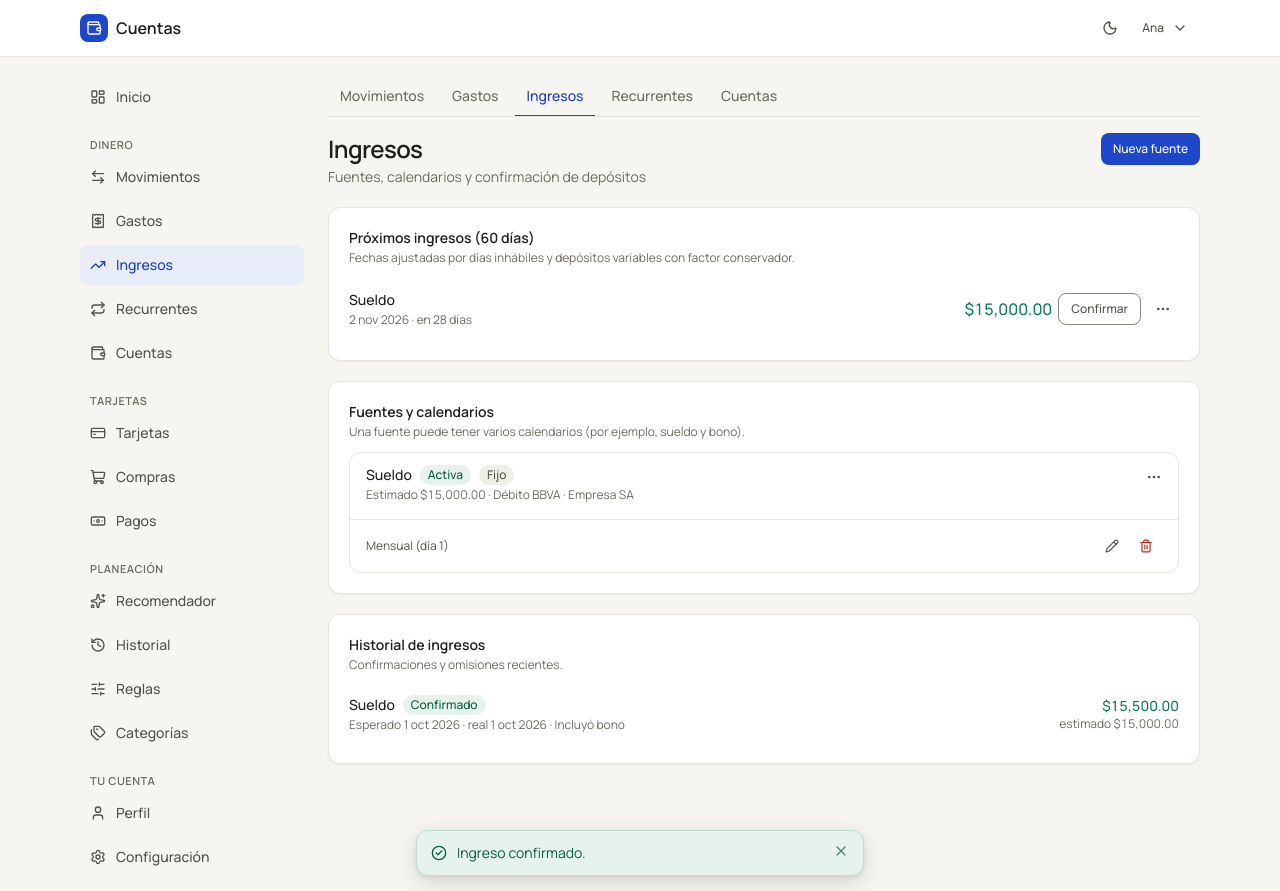
Scenario: ingresos › omite una fecha estimada
Click the button named "Más acciones del ingreso": (1163, 309) [1147, 293, 1179, 325]
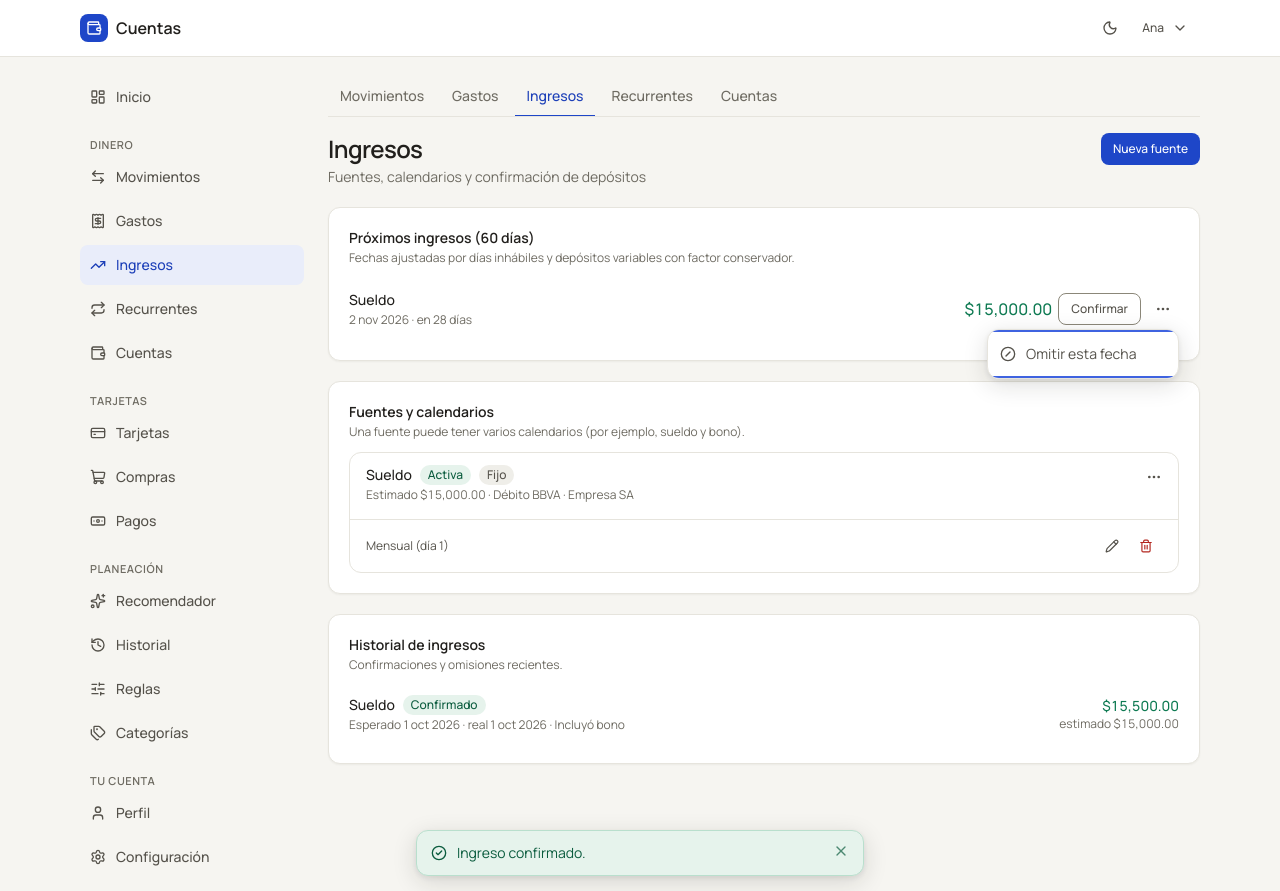
Click the menu item "Omitir esta fecha": (1083, 354) [988, 334, 1178, 374]
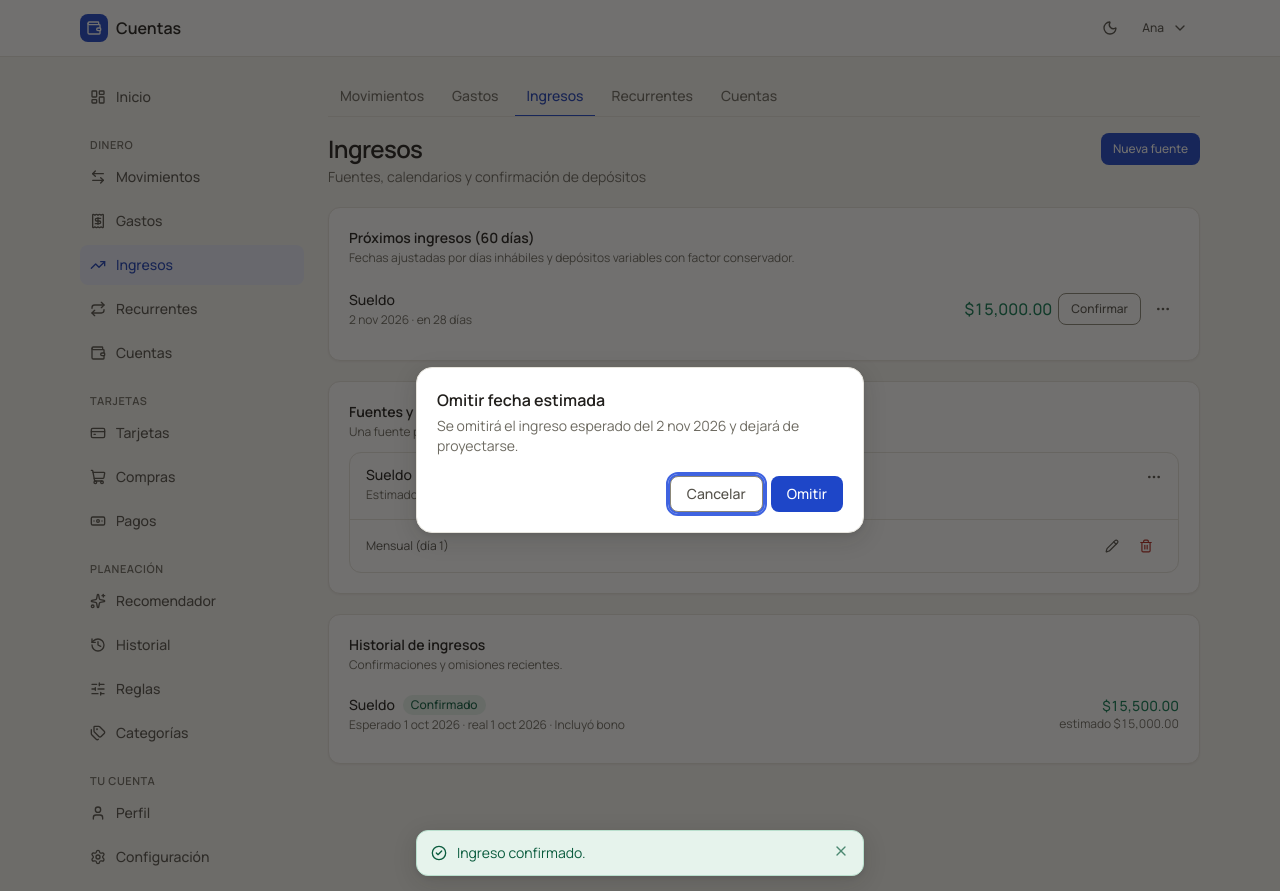
Click the button "Omitir": (807, 494) [771, 476, 843, 512]
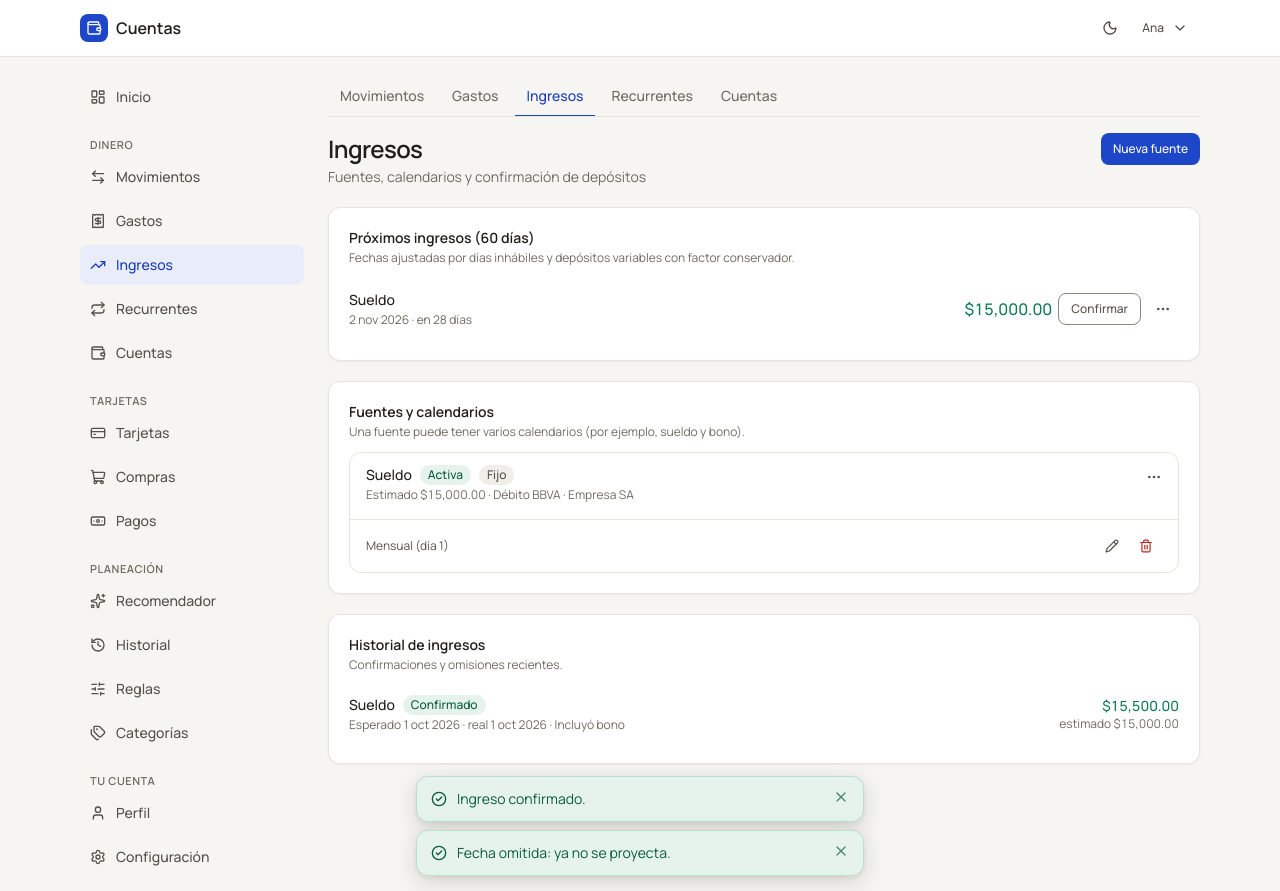
Now the text "Fecha omitida: ya no se proyecta." is shown, box [457, 843, 671, 862]
